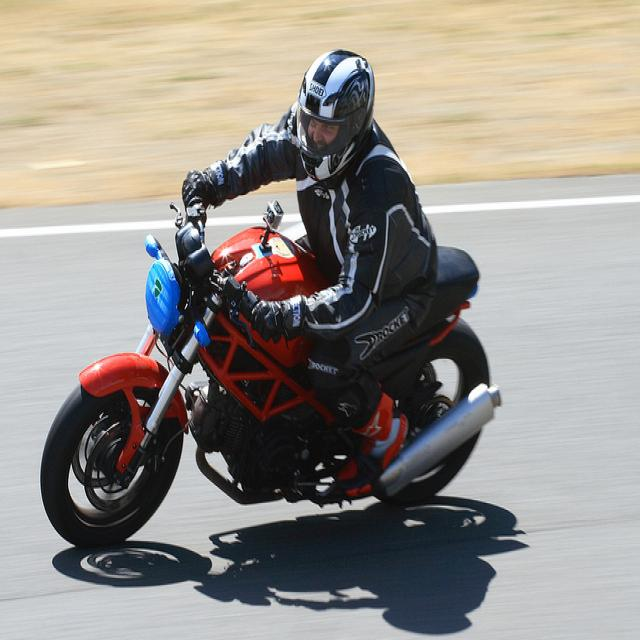motor: (41, 198, 501, 551)
